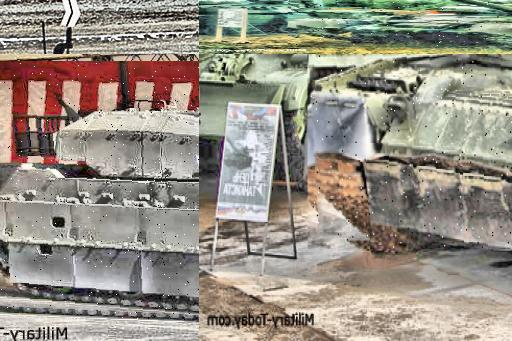tanks: (1, 113, 200, 313), (312, 55, 512, 249), (200, 55, 441, 181), (294, 1, 512, 47), (200, 1, 393, 35)
